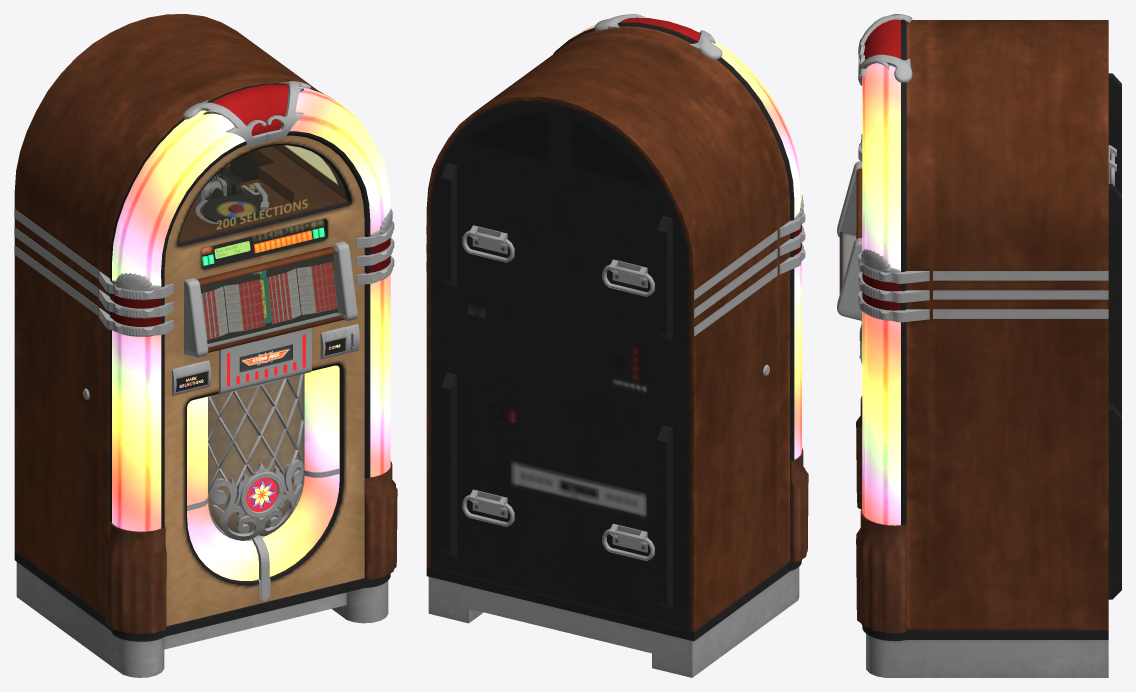
The model's file is jukebox-188e71.glb.
The picture shows the model from 3 angles, left to right: view 1: azimuth 30°, elevation 25°; view 2: azimuth 150°, elevation 25°; view 3: azimuth 270°, elevation 25°; orthographic projection. The views are drawn at different scales.
Visible parts, largest first — view 1: PropMesh; view 2: PropMesh; view 3: PropMesh.
Boxes of the visible parts, x1=… form: PropMesh: x1=14, y1=14, x2=397, y2=677; PropMesh: x1=426, y1=14, x2=808, y2=677; PropMesh: x1=837, y1=14, x2=1121, y2=677.
Size of the model in its own units: 0.8611 by 1.59 by 0.7122.
Materials: 4 (4 with a texture image).
